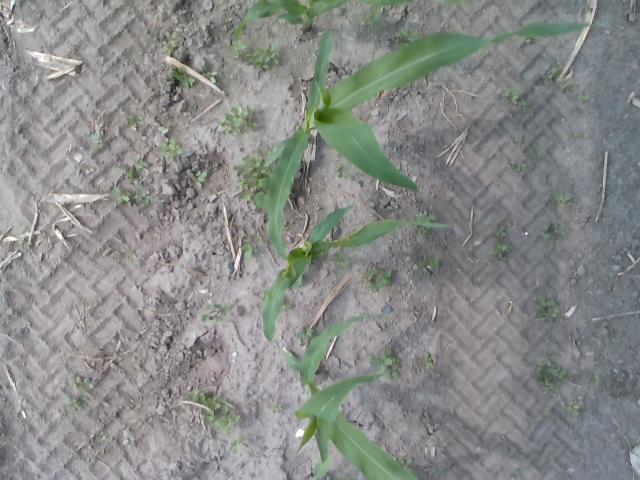Maize: (262, 21, 594, 262), (262, 204, 450, 344), (282, 313, 418, 480), (233, 0, 474, 41), (304, 456, 331, 480)
Weeds: (218, 106, 258, 134), (536, 360, 566, 384), (366, 267, 394, 292), (216, 406, 240, 432), (234, 154, 261, 176), (254, 45, 278, 66), (371, 351, 397, 370), (170, 68, 196, 87), (191, 391, 220, 408), (364, 11, 386, 28), (203, 303, 221, 322), (242, 172, 260, 190), (134, 184, 149, 204), (65, 398, 90, 409), (537, 296, 556, 310), (114, 188, 132, 202), (503, 88, 518, 104), (230, 438, 250, 450), (422, 351, 436, 368), (509, 160, 528, 172), (129, 156, 148, 168), (127, 114, 146, 126), (396, 30, 418, 40), (296, 328, 314, 340), (239, 186, 253, 201), (166, 140, 181, 154), (384, 365, 400, 378), (203, 69, 220, 81), (196, 170, 207, 188), (337, 166, 351, 180), (161, 41, 176, 54), (556, 193, 572, 204), (493, 244, 509, 255), (122, 430, 133, 446), (418, 212, 435, 222), (242, 244, 255, 257), (568, 402, 580, 416), (554, 224, 568, 235), (69, 377, 83, 388), (270, 402, 283, 413), (246, 52, 257, 64), (540, 229, 552, 240), (84, 378, 95, 390), (339, 258, 352, 268), (531, 144, 539, 160), (545, 310, 559, 319), (548, 67, 558, 79), (496, 226, 506, 238), (18, 238, 32, 246), (91, 135, 102, 144), (235, 42, 246, 51), (206, 412, 217, 421), (594, 374, 601, 387), (159, 125, 169, 134), (578, 96, 590, 103), (432, 256, 440, 266), (516, 100, 526, 108), (102, 248, 113, 255), (514, 136, 523, 142), (561, 84, 569, 90)
